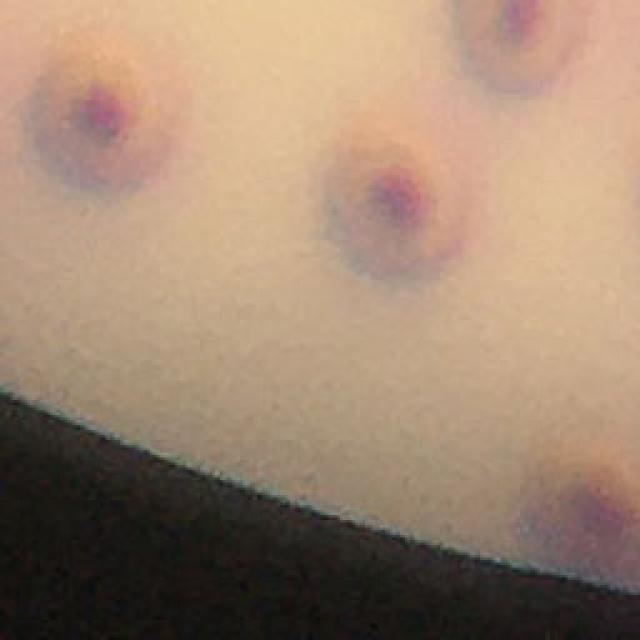RBC: (26, 33, 190, 195), (321, 118, 475, 288), (452, 0, 590, 99)
